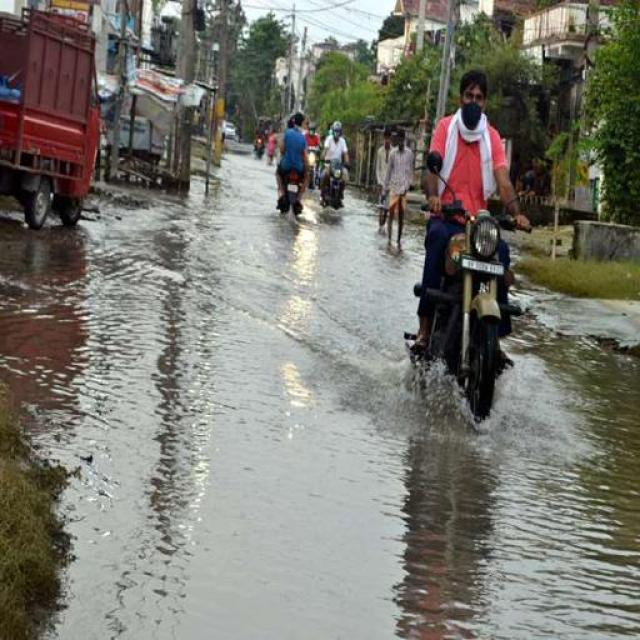puddle: (69, 427, 640, 640), (132, 208, 393, 640), (18, 245, 284, 471)
